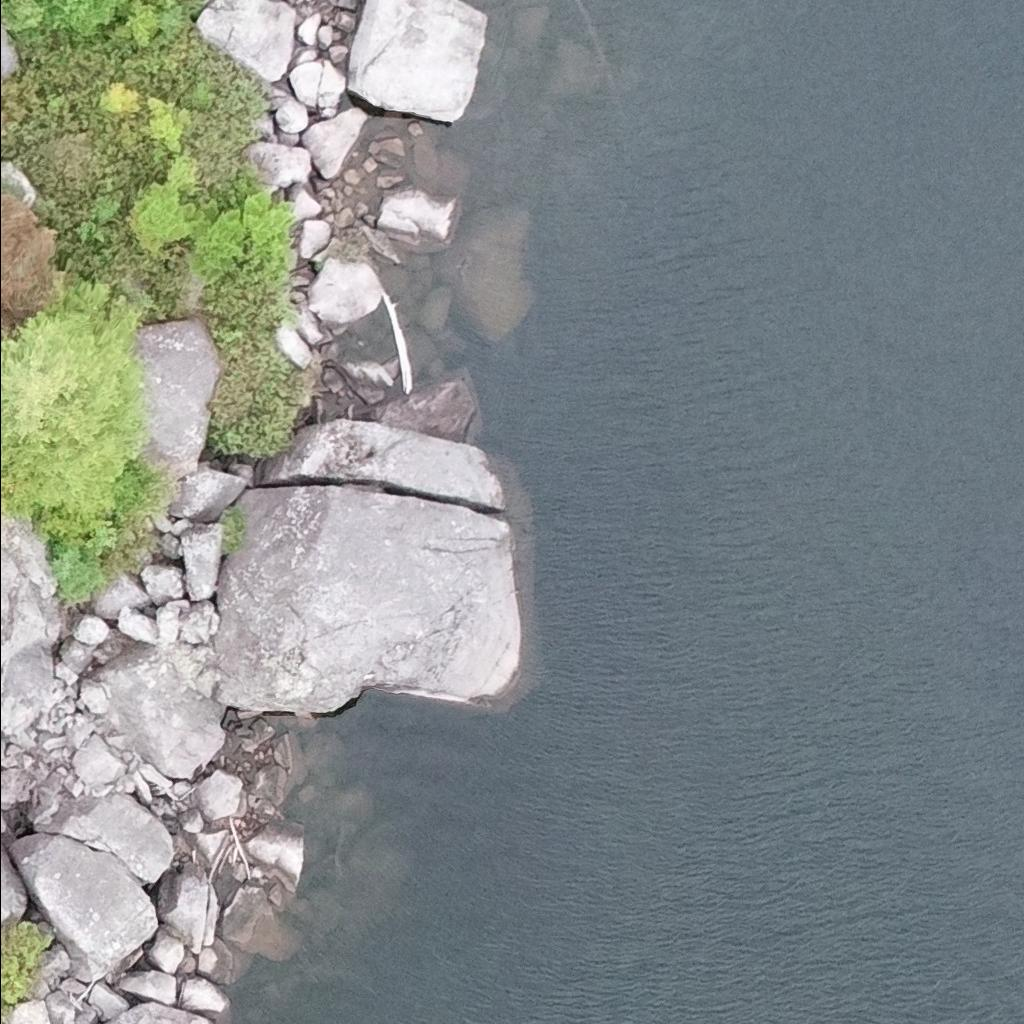crown: (0, 280, 146, 519), (0, 180, 59, 336), (126, 181, 200, 254), (184, 196, 247, 272), (240, 191, 294, 272)
